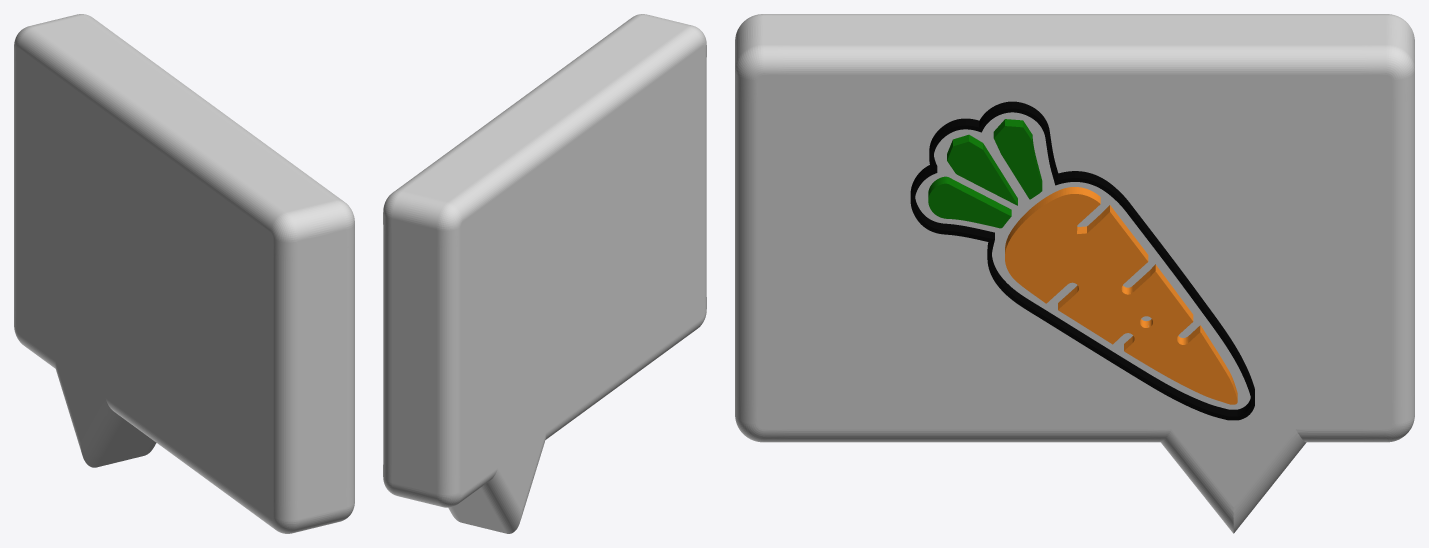
3 views of the same model, side by side, from view 1: azimuth 30°, elevation 25°; view 2: azimuth 150°, elevation 25°; view 3: azimuth 270°, elevation 25° (orthographic). The views are drawn at different scales.
Visible parts, largest first — view 1: Object_3; view 2: Object_3; view 3: Object_3, Layer 02, Layer 03, Layer 04.
Part boxes in pixels (x1,y1,x2,y2): Object_3: (14, 14, 354, 533); Object_3: (383, 14, 706, 533); Object_3: (735, 14, 1414, 533); Layer 02: (1005, 187, 1237, 404); Layer 03: (910, 101, 1254, 420); Layer 04: (928, 119, 1042, 228).
Bounding box in the file's own units: 302 × 1580 × 1251.
